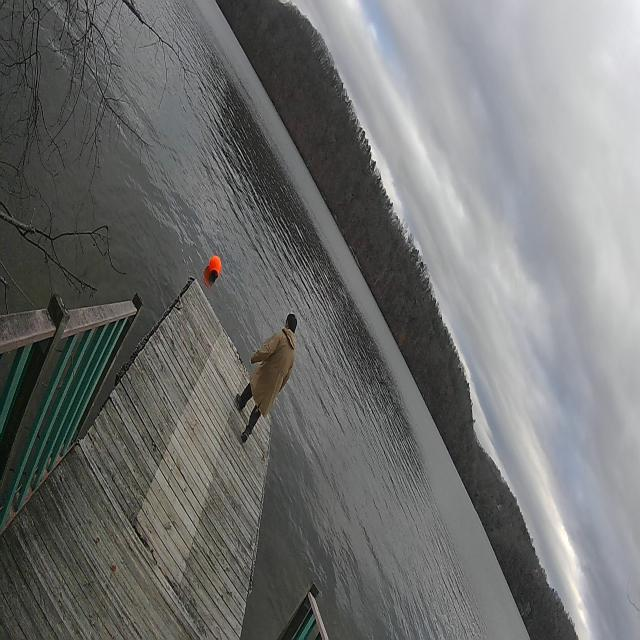Buoy: (207, 251, 223, 285)
